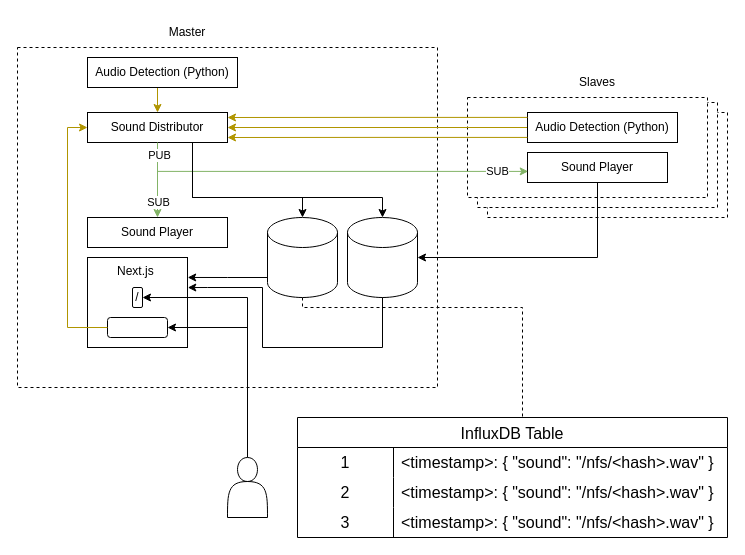
Image size: 745x555. Some labels were removed from this diagram. The centre of each missing label's shape, as x and y in pixels:
"/api/replay" belongs at (x=137, y=327).
"InfluxDB" belongs at (x=302, y=257).
"NFS" belongs at (x=382, y=257).
